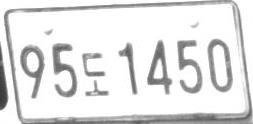0: (207, 37, 233, 93)
1: (116, 41, 143, 94)
4: (146, 39, 173, 95)
5: (176, 39, 203, 94), (51, 43, 77, 97)
9: (19, 44, 45, 98)
도: (82, 52, 109, 96)
